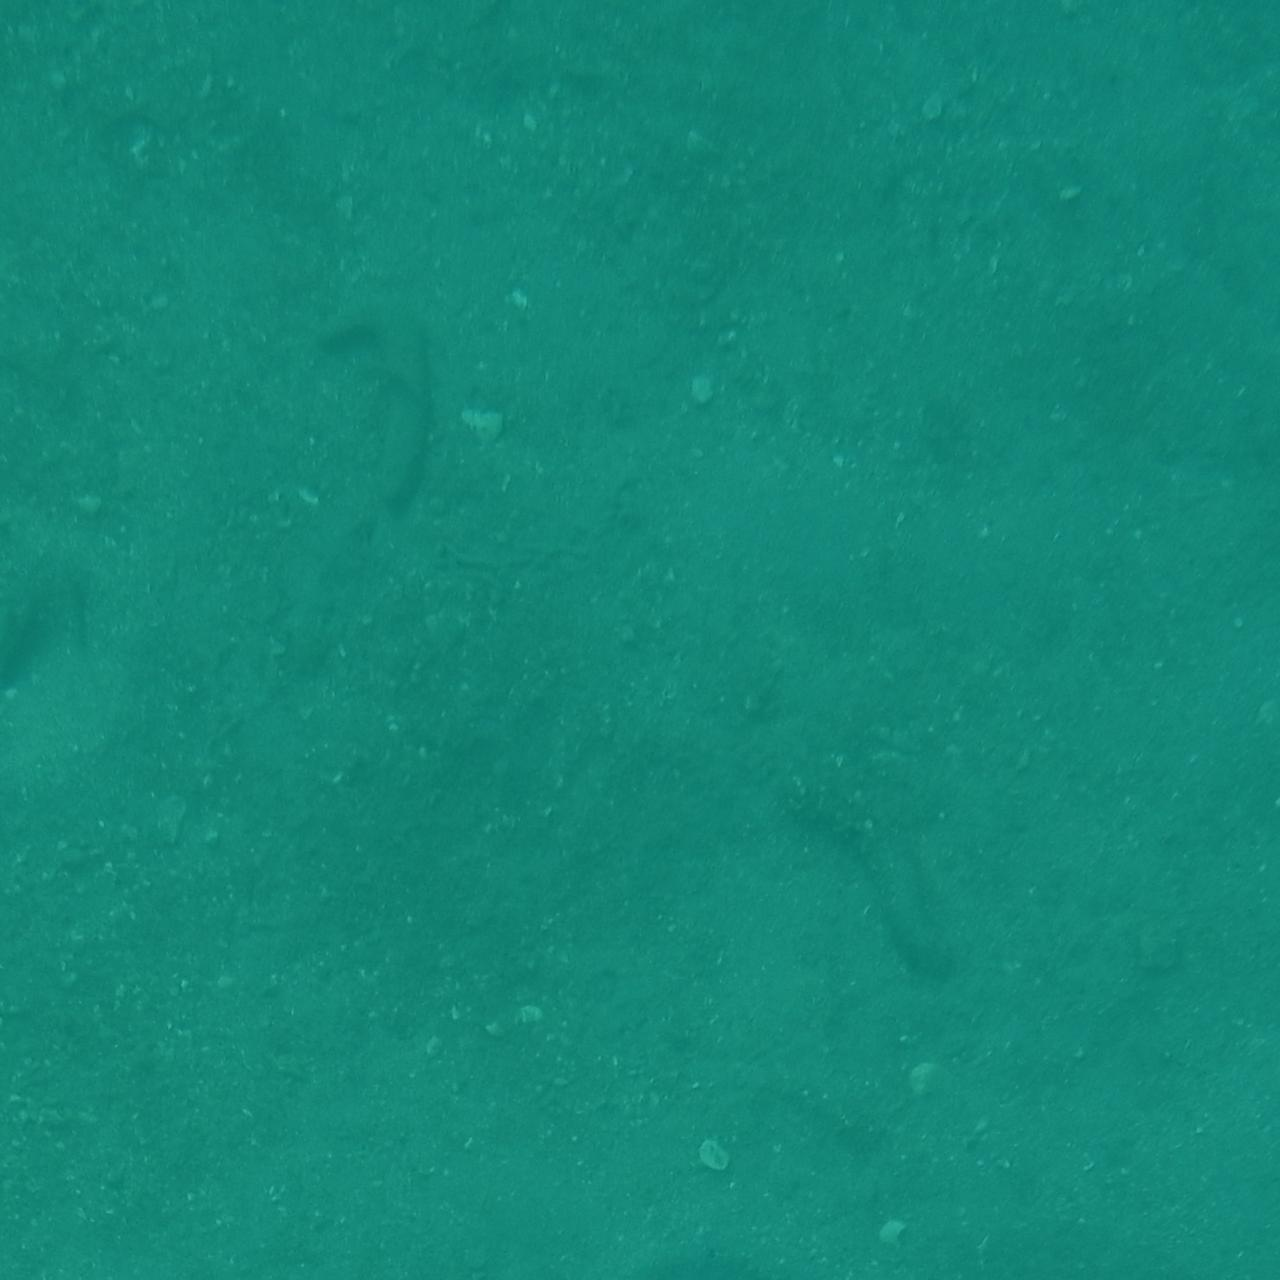Holothuria tubulosa: (779, 731, 968, 982), (340, 284, 472, 563)
